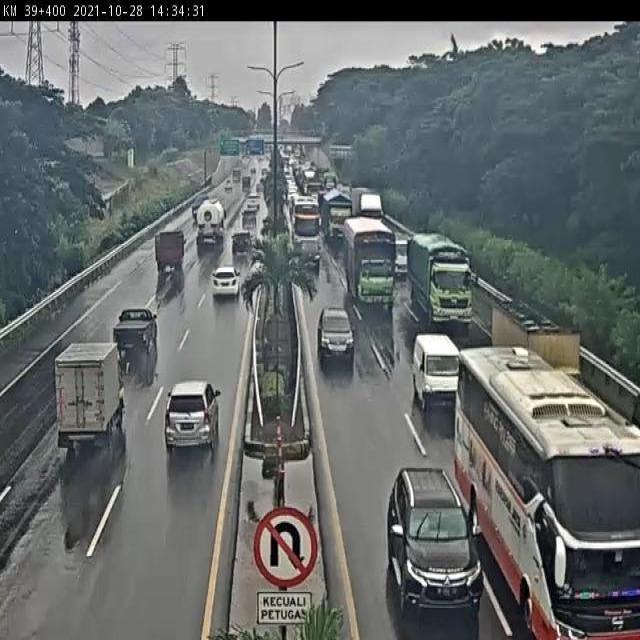big bus: (458, 344, 640, 640), (289, 190, 325, 254)
big truck: (406, 232, 479, 328), (342, 219, 395, 312)
car: (382, 457, 486, 616), (409, 332, 468, 420), (160, 380, 223, 452), (317, 307, 358, 372), (114, 306, 162, 354), (297, 233, 323, 270), (212, 265, 243, 295), (231, 229, 256, 259)
small truck: (57, 341, 131, 452), (194, 200, 231, 253), (152, 228, 189, 276)
